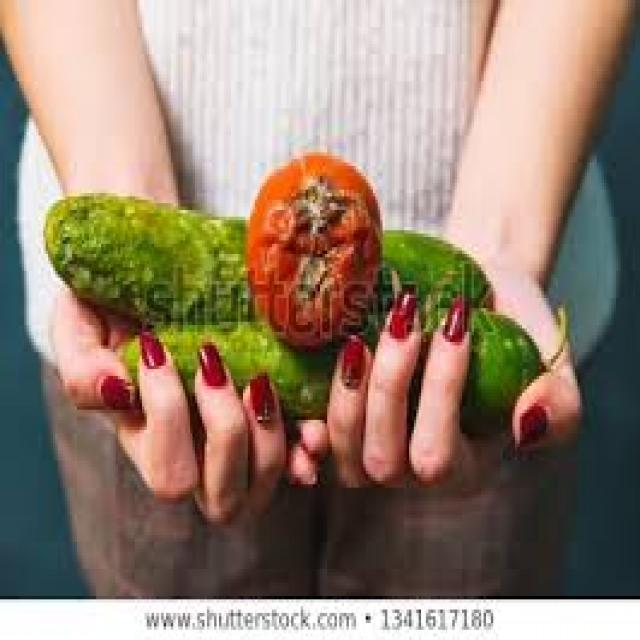organic waste: (41, 190, 493, 338), (115, 304, 563, 426), (243, 149, 380, 342)
